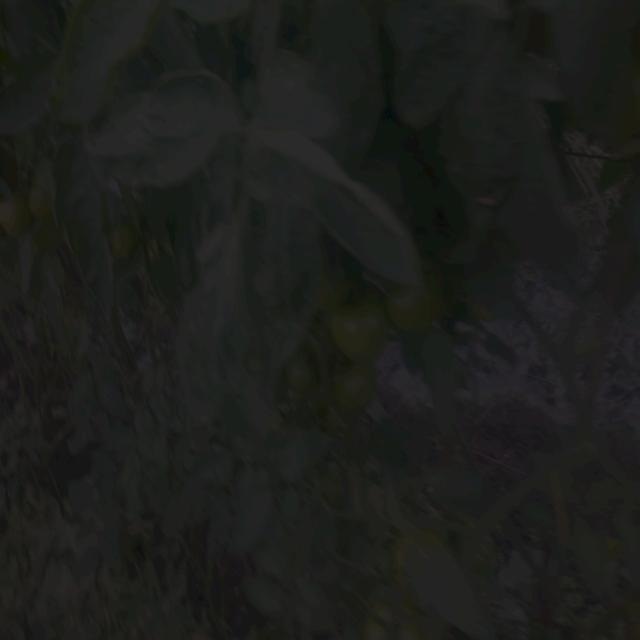tomato: (333, 293, 392, 360), (391, 293, 441, 340), (366, 598, 420, 640), (102, 219, 141, 265), (338, 357, 374, 403), (1, 186, 28, 233), (283, 354, 321, 385), (27, 185, 52, 220)
